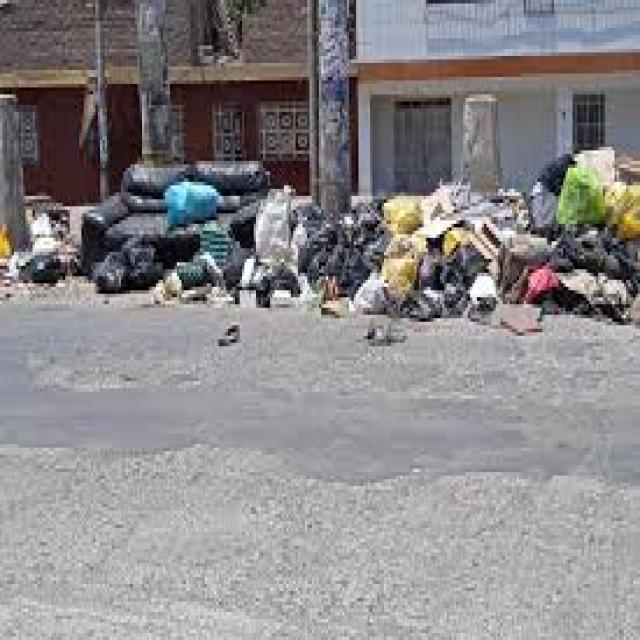high trash: (0, 149, 640, 326)
